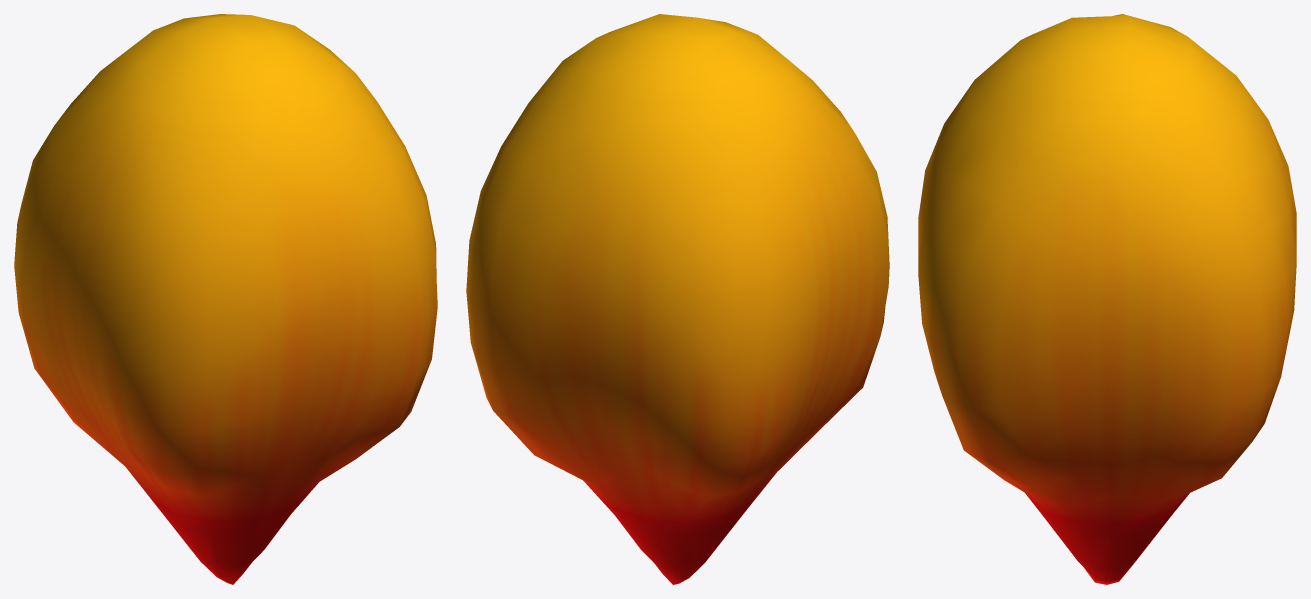
The model's file is Fireball.FBX.
The picture shows the model from 3 angles, left to right: view 1: azimuth 30°, elevation 25°; view 2: azimuth 150°, elevation 25°; view 3: azimuth 270°, elevation 25°; orthographic projection.
Visible parts, largest first — view 1: Fireball; view 2: Fireball; view 3: Fireball.
Part boxes in pixels (x1,y1,x2,y2): Fireball: [14, 14, 437, 584]; Fireball: [466, 14, 889, 584]; Fireball: [918, 14, 1296, 584].
Size of the model in its own units: 59.24 by 96.61 by 59.51.
